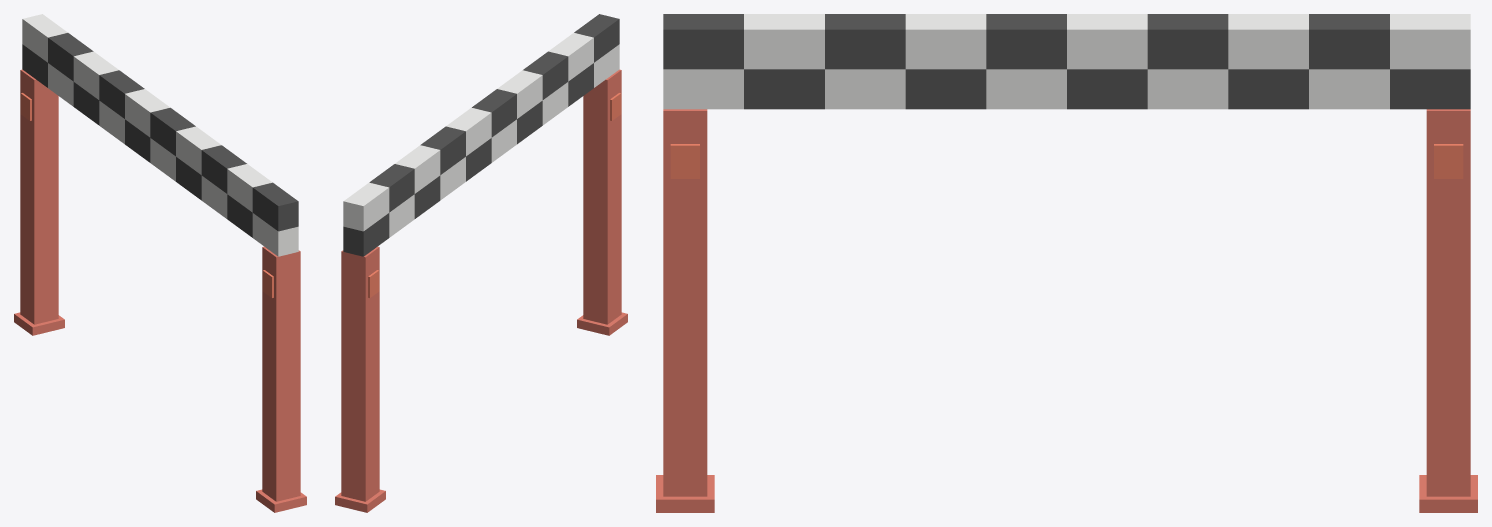
File: start_arch.glb
3 views of the same model, side by side, from view 1: azimuth 30°, elevation 25°; view 2: azimuth 150°, elevation 25°; view 3: azimuth 270°, elevation 25° (orthographic). The views are drawn at different scales.
Size of the model in its own units: 0.08 by 0.72 by 1.12.
